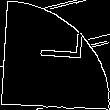L_W: (27, 37, 83, 73)
